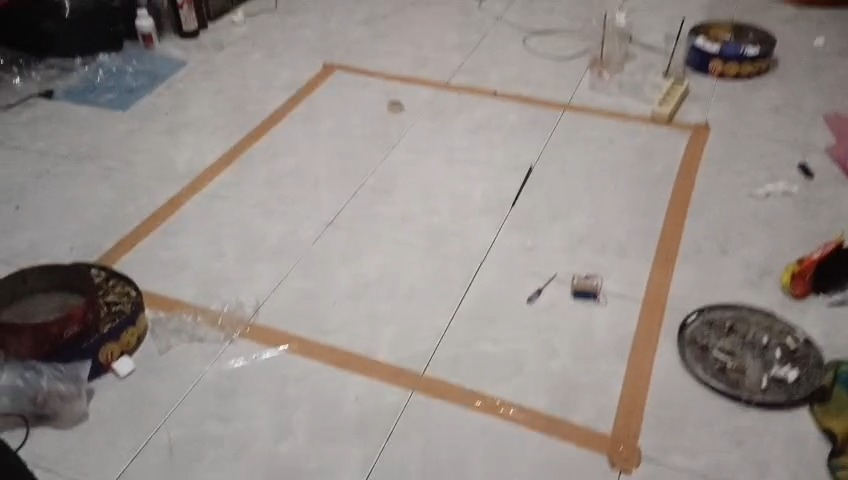floor marking: (236, 123, 709, 472), (98, 63, 664, 265), (146, 291, 217, 326)
